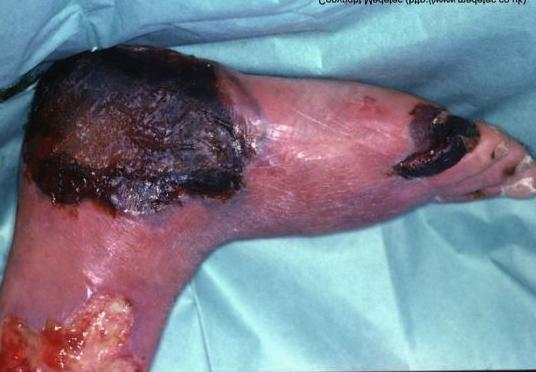NonPU: (0, 52, 502, 372)
